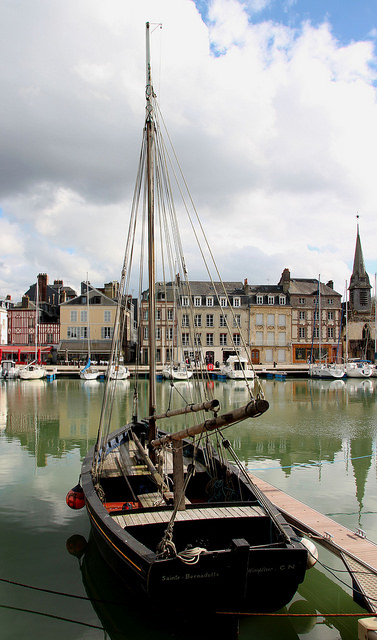boat: (304, 281, 342, 375), (17, 306, 55, 385), (213, 324, 258, 383), (344, 292, 373, 383), (75, 282, 97, 386)
fishing_boat: (67, 28, 311, 598)
